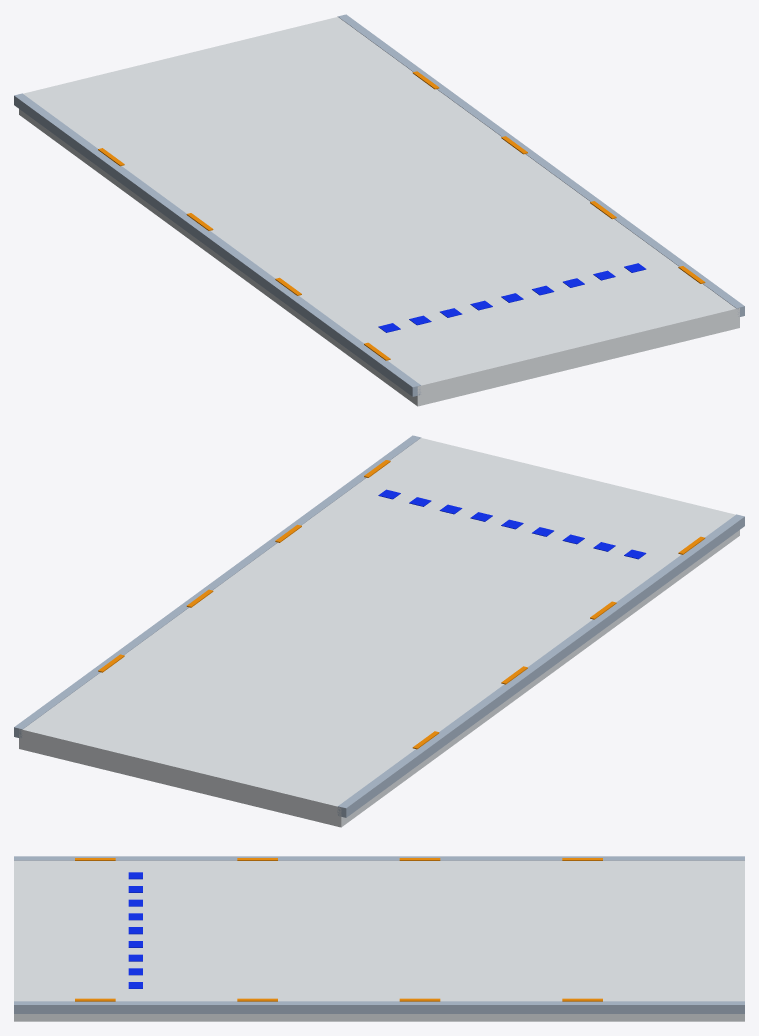
Rendered from TRK_finish__v001__model.fbx.
3 views of the same model, one above another, from view 1: azimuth 30°, elevation 25°; view 2: azimuth 150°, elevation 25°; view 3: azimuth 270°, elevation 25° (orthographic). The views are drawn at different scales.
Visible parts, largest first — view 1: TRK_finish_Mesh; view 2: TRK_finish_Mesh; view 3: TRK_finish_Mesh.
Part boxes in pixels (x1,y1,x2,y2): TRK_finish_Mesh: (14,14,744,406); TRK_finish_Mesh: (14,435,744,827); TRK_finish_Mesh: (14,856,744,1021).
Size of the model in its own units: 8.66 by 0.5475 by 18.
Materials: 1 (1 with a texture image).
